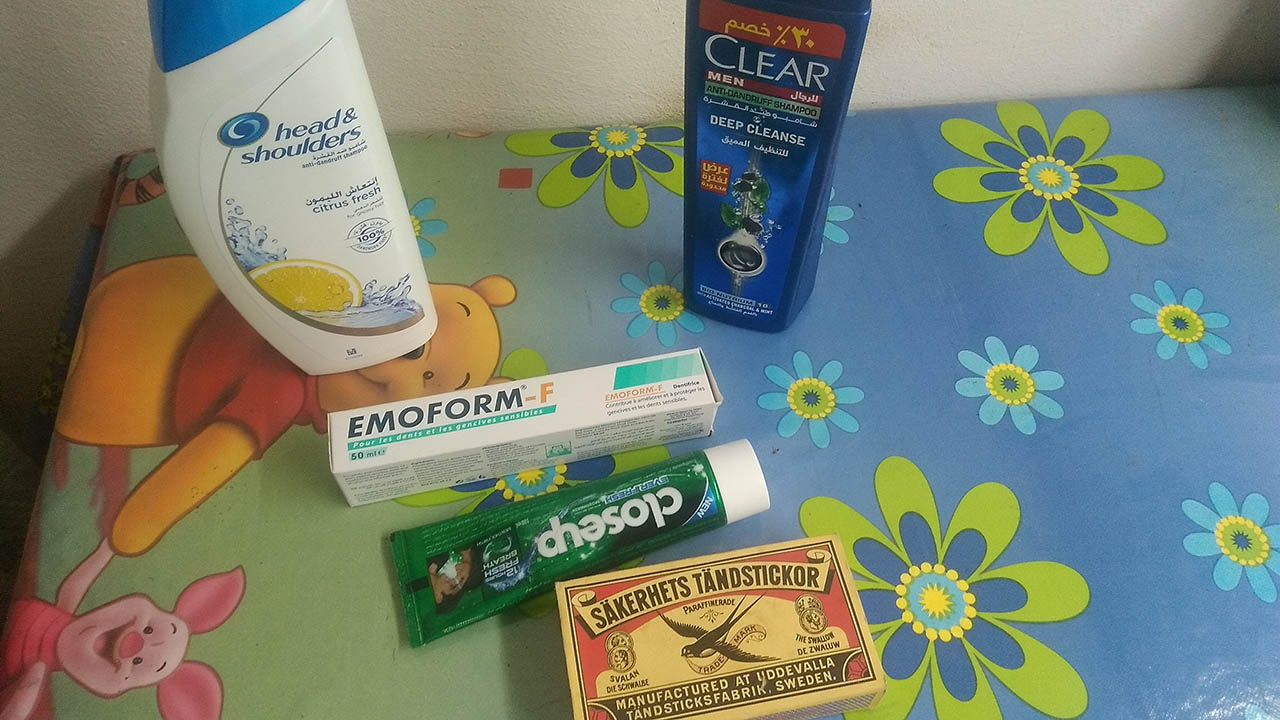Shampoo-Clear 4.7$: (676, 1, 865, 324)
Toothpaste-Closeup 3.04$: (385, 434, 758, 635)
Toothpaste-F 1.5$: (330, 346, 714, 487)
match-sticks .90$: (559, 535, 855, 707)
shampoo-Lemon 3.5$: (141, 1, 442, 357)
